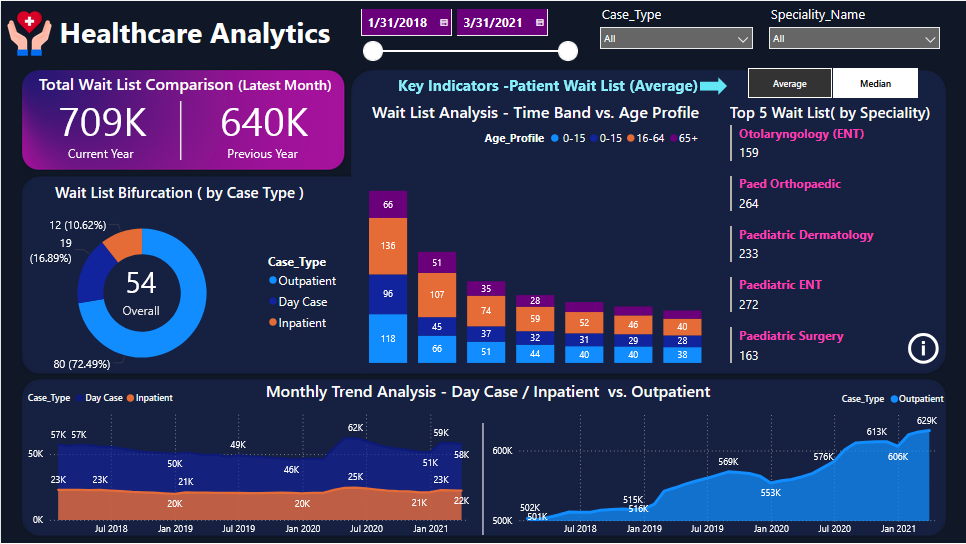

The dashboard page shown, as its layout file describes it:
{"tool":"powerbi","page":{"name":"Summary","canvas":[1280,720],"ordinal":1},"visuals":[{"type":"card","fields":{"Values":["All Measures.Latest Month Wait List"]},"box":[21.4,95.7,225.7,141.4],"z":0},{"type":"card","fields":{"Values":["All Measures.PY Latest Month Wait List"]},"box":[238.6,94.3,220,144.3],"z":1000},{"type":"slicer","fields":{"Values":["Calculated Method.Calc Method"]},"box":[963.6,81.6,275.7,53.5],"z":2000},{"type":"donutChart","title":"Wait List Bifurcation ( by Case Type )","fields":{"Category":["All_Data.Case_Type"],"Y":["All Measures.Avg/Med Wait List"]},"box":[14.7,238.2,444.3,270.3],"z":3000},{"type":"columnChart","title":"Wait List Analysis - Time Band vs. Age Profile","fields":{"Y":["All Measures.Avg/Med Wait List"],"Category":["All_Data.Time_Bands"],"Series":["All_Data.Age_Profile"]},"box":[483.1,132.5,452.3,353.3],"z":4000},{"type":"multiRowCard","title":"Top 5 Wait List( by Speciality)","fields":{"Values":["All_Data.Speciality_Name","All Measures.Avg/Med Wait List"]},"box":[961.4,132.9,318.6,382.9],"z":5000},{"type":"card","fields":{"Values":["All Measures.NoDataRight"]},"box":[728.1,600.1,403.3,49.5],"z":6000},{"type":"lineChart","fields":{"Category":["All_Data.Archive_Date"],"Y":["Sum(All_Data.Total)"],"Series":["All_Data.Case_Type"]},"box":[30.8,505.9,608.9,211.4],"z":7000},{"type":"lineChart","fields":{"Category":["All_Data.Archive_Date"],"Y":["Sum(All_Data.Total)"],"Series":["All_Data.Case_Type"]},"box":[645.5,507.9,613.8,210.6],"z":8000},{"type":"slicer","fields":{"Values":["All_Data.Archive_Date"]},"box":[464.3,0,308.6,90],"z":9000},{"type":"slicer","fields":{"Values":["All_Data.Case_Type"]},"box":[784.3,0,222.9,81.4],"z":10000},{"type":"slicer","fields":{"Values":["All_Data.Speciality_Name"]},"box":[1007.1,0,247.1,80],"z":11000},{"type":"textbox","box":[48.6,10,415.7,71.4],"z":12000},{"type":"card","fields":{"Values":["All Measures.Avg/Med Wait List"]},"box":[133.8,339.9,103,84.3],"z":13000},{"type":"shape","box":[178.6,132.9,118.6,78.6],"z":14000},{"type":"card","fields":{"Values":["All Measures.Dynamic Title"]},"box":[519.3,89.7,410.9,46.8],"z":15000},{"type":"textbox","box":[328.8,497.5,633.8,52.5],"z":16000},{"type":"textbox","box":[0,90,488.6,61.4],"z":17000},{"type":"shape","box":[571.4,559.4,135.2,148.6],"z":18000},{"type":"card","fields":{"Values":["All Measures.NoDataLeft"]},"box":[143.1,593.2,371.6,41.3],"z":19000},{"type":"actionButton","box":[1197.1,434.3,57.1,51.4],"z":20000},{"type":"shape","box":[927.4,100.4,36.1,24.1],"z":21000},{"type":"image","box":[0,0,74.9,87],"z":22000}]}

Visuals, with their boxes in screenshot pixels (x1, y1, x2, y2), scaled from the page's 1280x720 canvas onto the 966x544 screenshot:
card - All Measures.Latest Month Wait List: rect(16, 72, 186, 179)
card - All Measures.PY Latest Month Wait List: rect(180, 71, 346, 180)
slicer - Calculated Method.Calc Method: rect(727, 62, 935, 102)
"Wait List Bifurcation ( by Case Type )" donutChart: rect(11, 180, 346, 384)
"Wait List Analysis - Time Band vs. Age Profile" columnChart: rect(365, 100, 706, 367)
"Top 5 Wait List( by Speciality)" multiRowCard: rect(726, 100, 965, 390)
card - All Measures.NoDataRight: rect(549, 453, 854, 491)
lineChart - All_Data.Archive_Date x Sum(All_Data.Total): rect(23, 382, 483, 542)
lineChart - All_Data.Archive_Date x Sum(All_Data.Total): rect(487, 384, 950, 543)
slicer - All_Data.Archive_Date: rect(350, 0, 583, 68)
slicer - All_Data.Case_Type: rect(592, 0, 760, 62)
slicer - All_Data.Speciality_Name: rect(760, 0, 947, 60)
textbox: rect(37, 8, 350, 62)
card - All Measures.Avg/Med Wait List: rect(101, 257, 179, 321)
shape: rect(135, 100, 224, 160)
card - All Measures.Dynamic Title: rect(392, 68, 702, 103)
textbox: rect(248, 376, 726, 416)
textbox: rect(0, 68, 369, 114)
shape: rect(431, 423, 533, 535)
card - All Measures.NoDataLeft: rect(108, 448, 388, 479)
actionButton: rect(903, 328, 947, 367)
shape: rect(700, 76, 727, 94)
image: rect(0, 0, 57, 66)
